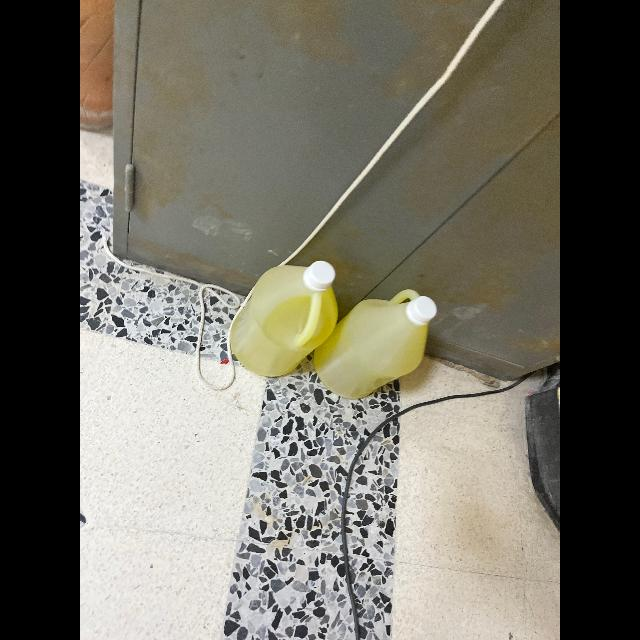chemical_plastic_gallon: (308, 285, 442, 401), (222, 256, 336, 374)
